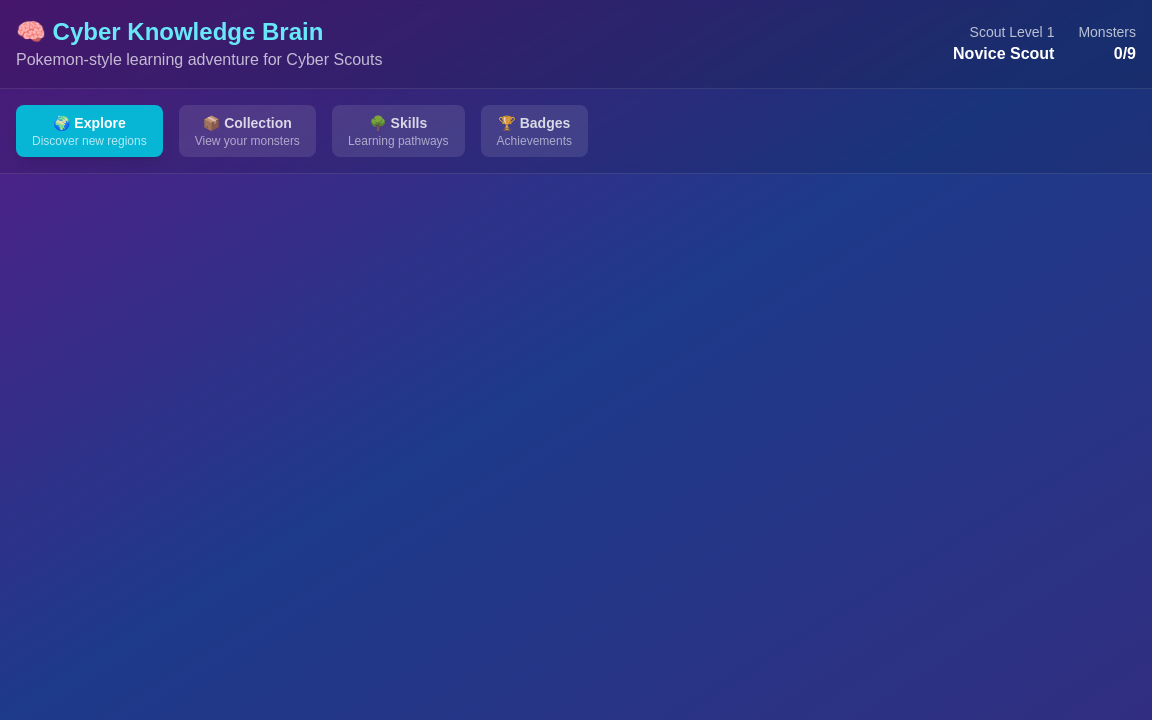
🧠 CyberKnowledgeBrainGame - Basic Functionality › handles navigation to badges tab
This screenshot has width=1152, height=720.
Note: Click on badges tab
What coordinates should you click on to do the following:
click the text "🏆 Badges"
I would click on:
 (534, 123)
Its box is [497,113,572,133].
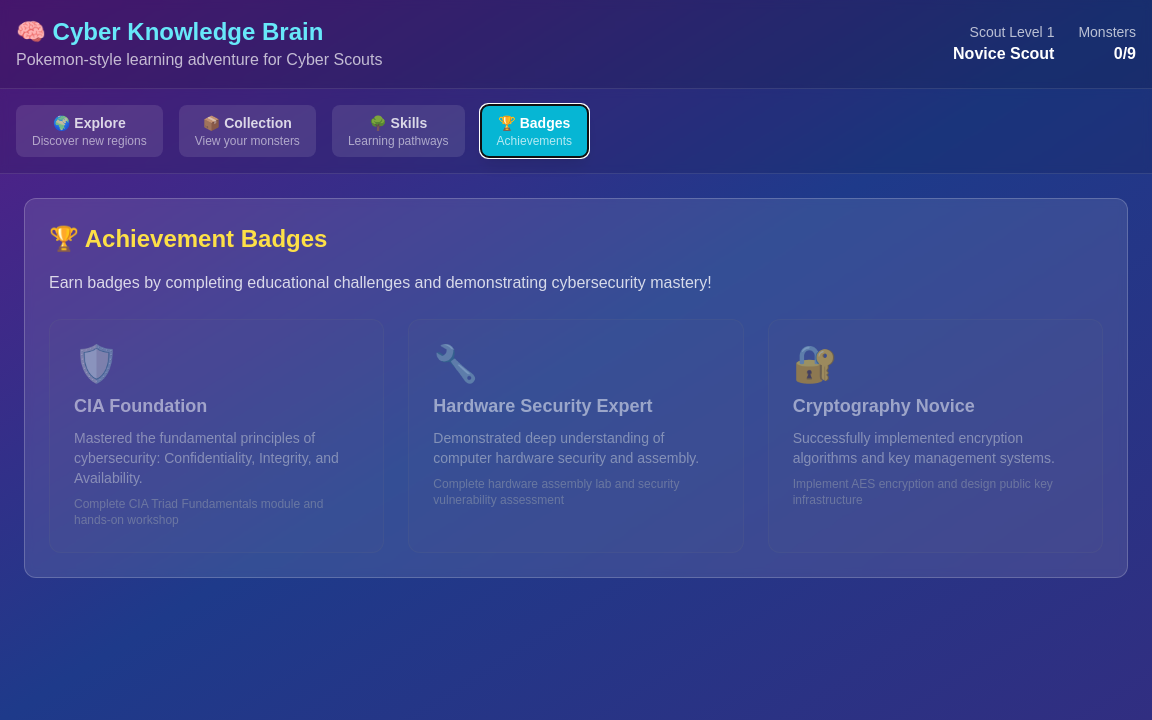
Now the heading "🏆 Achievement Badges" is shown, box [49,225,328,252]
